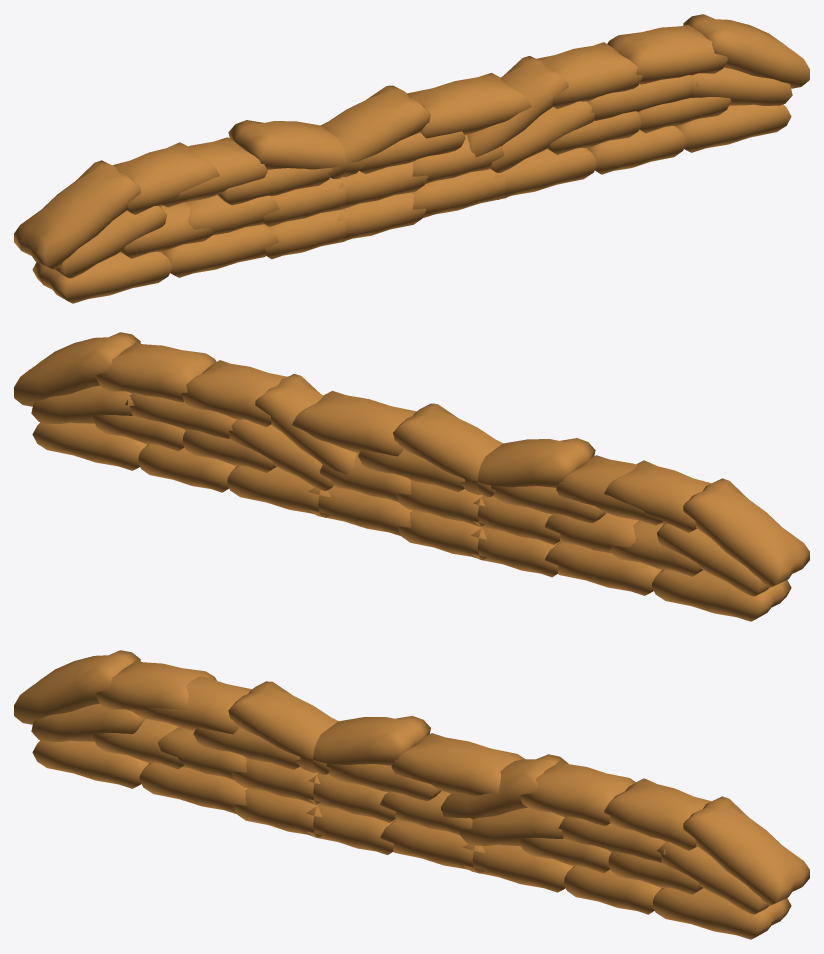
The model's file is sandbag_straight_long.FBX.
The picture shows the model from 3 angles, top to bottom: view 1: azimuth 30°, elevation 25°; view 2: azimuth 150°, elevation 25°; view 3: azimuth 330°, elevation 25°; orthographic projection.
Parts seen in each view (by area): view 1: sandbag_straight_long; view 2: sandbag_straight_long; view 3: sandbag_straight_long.
Part boxes in pixels (box(x1,y1,x2,y2)): sandbag_straight_long: box(14, 14, 809, 303); sandbag_straight_long: box(14, 332, 809, 621); sandbag_straight_long: box(14, 650, 809, 939).
Bounding box in the file's own units: 322 × 25.18 × 50.8.
